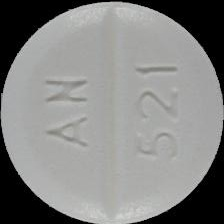0904-6252: (0, 0, 224, 224)
